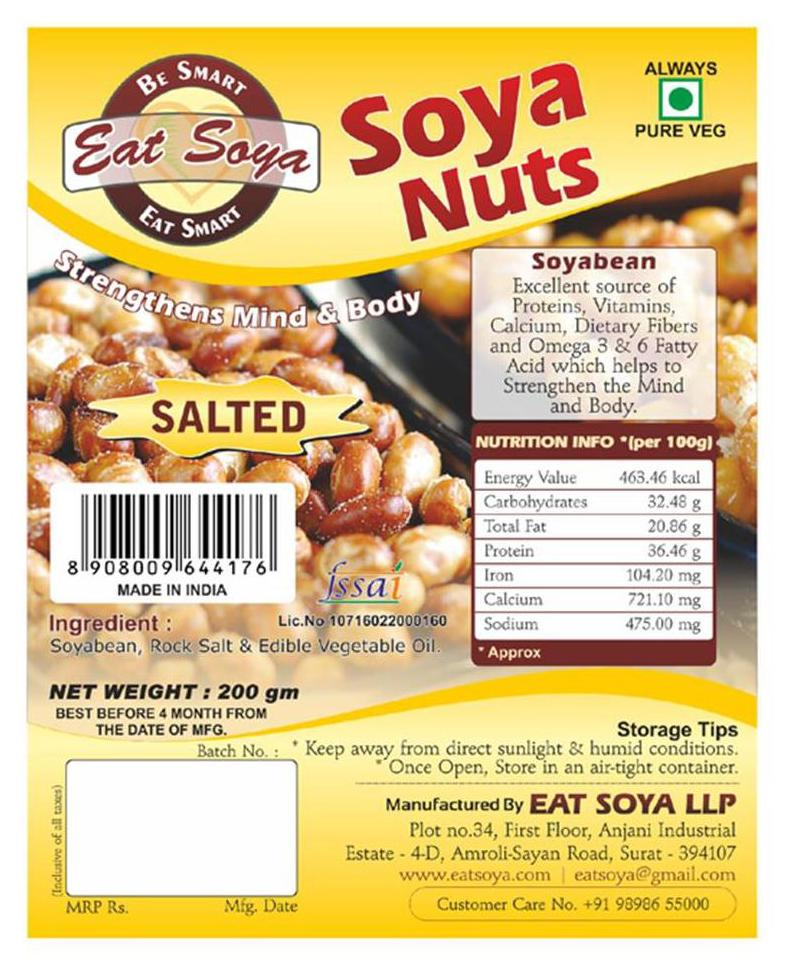fssai: (317, 559, 399, 606)
